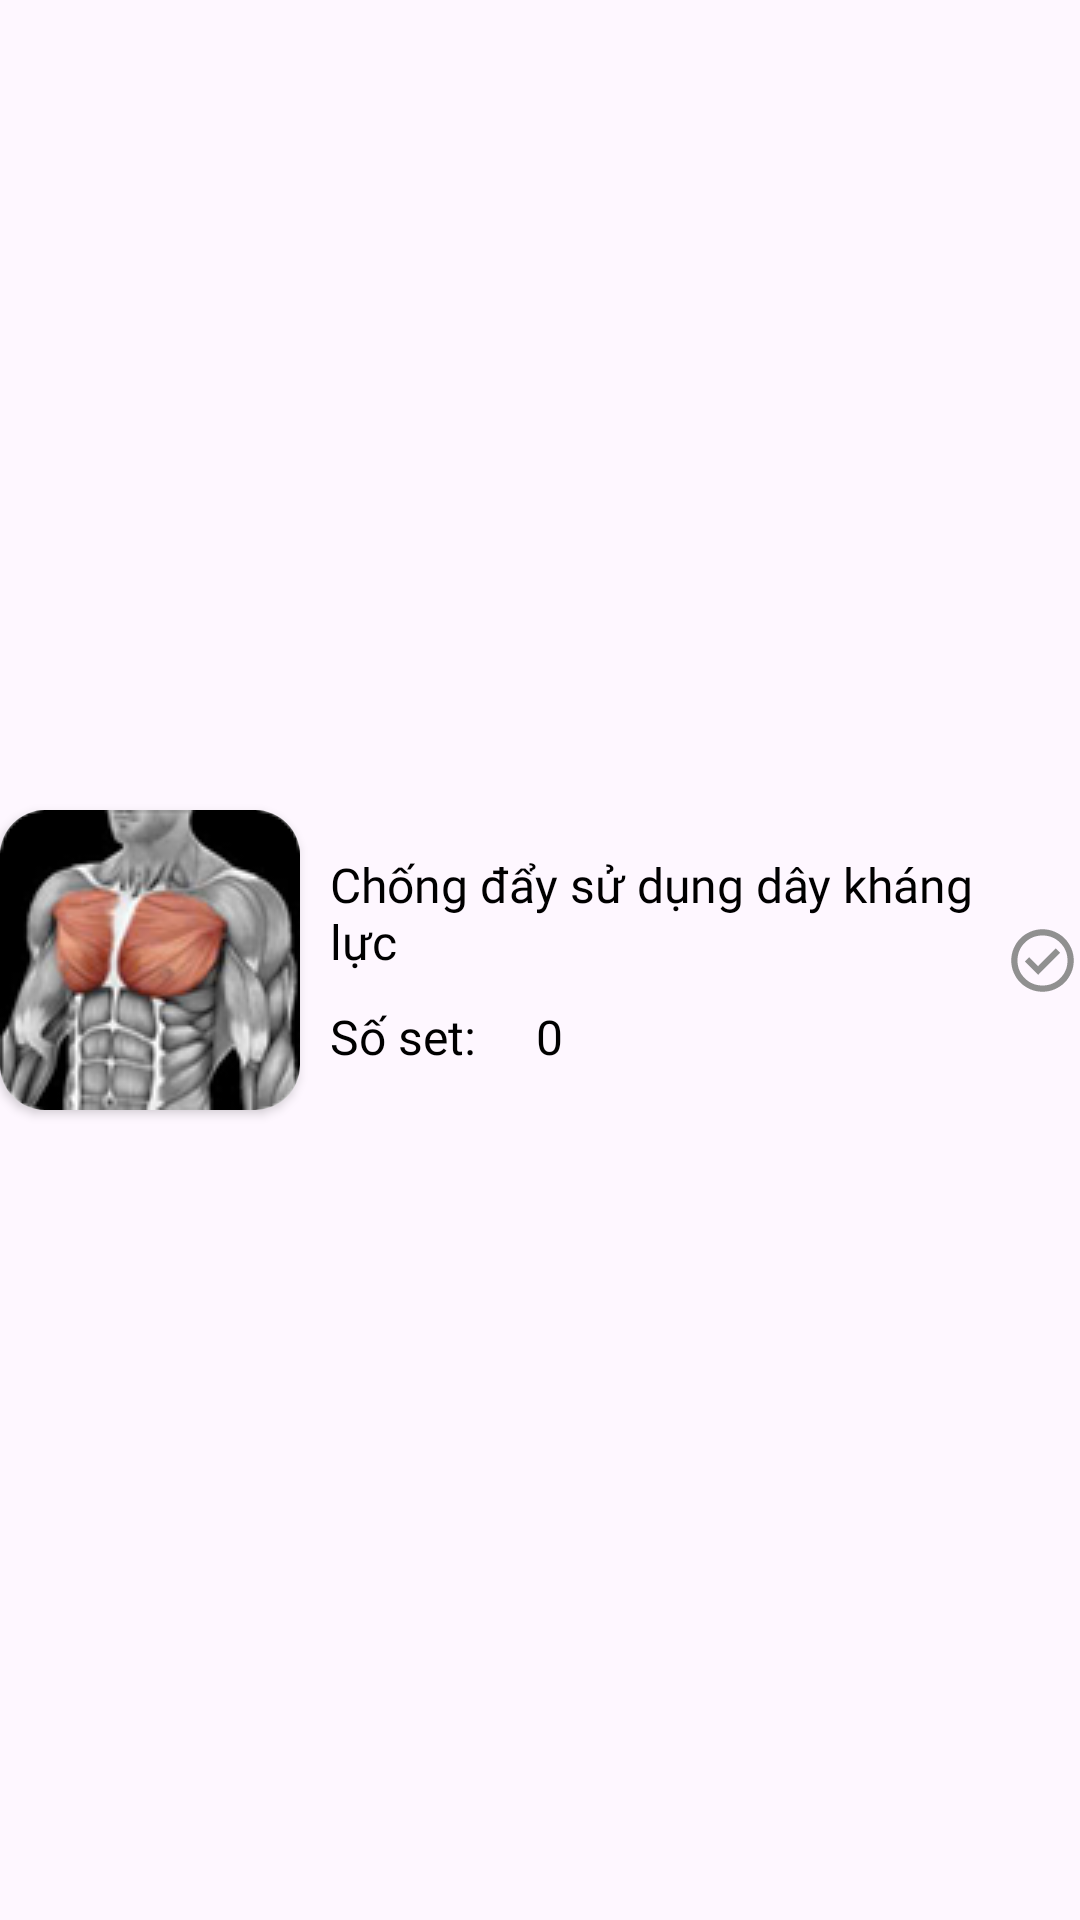

Locate icon controls on the screen. Image size 1080w x 1920h, boxes as BBox(x1, y1, x2, y2).
check circle: BBox(1011, 929, 1074, 992)
